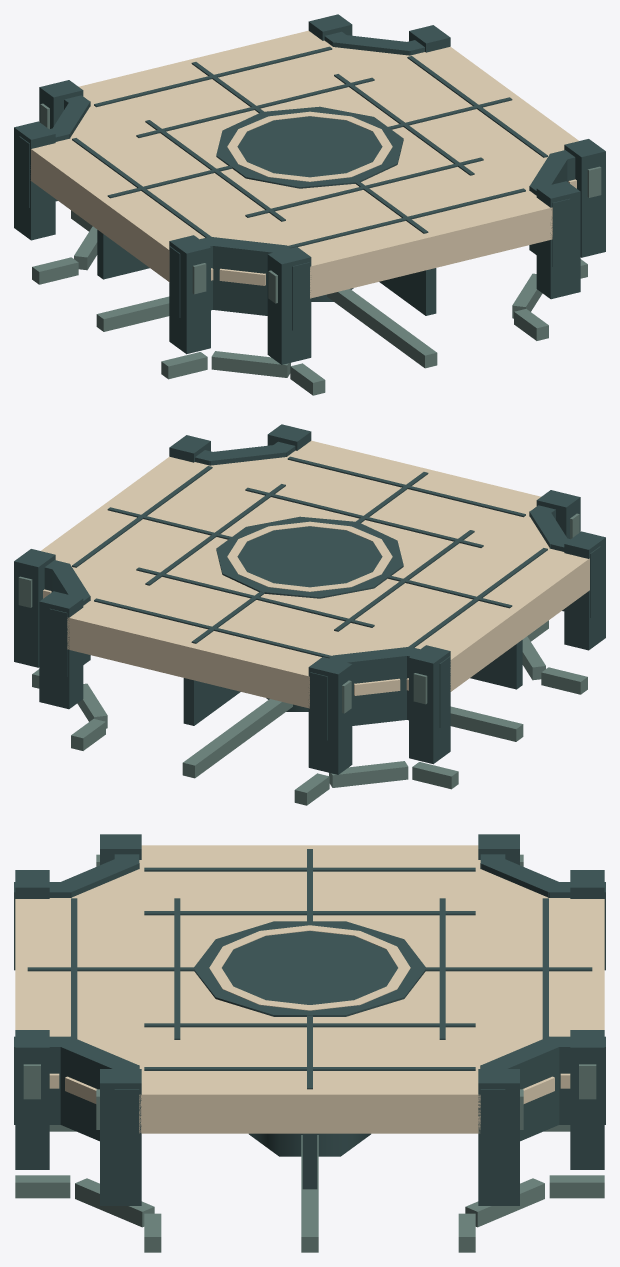
File: Junction_X_lab2.glb
The picture shows the model from 3 angles, top to bottom: view 1: azimuth 30°, elevation 25°; view 2: azimuth 150°, elevation 25°; view 3: azimuth 270°, elevation 25°; orthographic projection. The views are drawn at different scales.
Parts seen in each view (by area): view 1: Junction_X; view 2: Junction_X; view 3: Junction_X.
Part boxes in pixels (bbox=[...]): Junction_X: bbox=[14, 14, 605, 395]; Junction_X: bbox=[14, 424, 605, 805]; Junction_X: bbox=[14, 834, 605, 1252].
Bounding box in the file's own units: 4.82 × 1.58 × 4.82.
